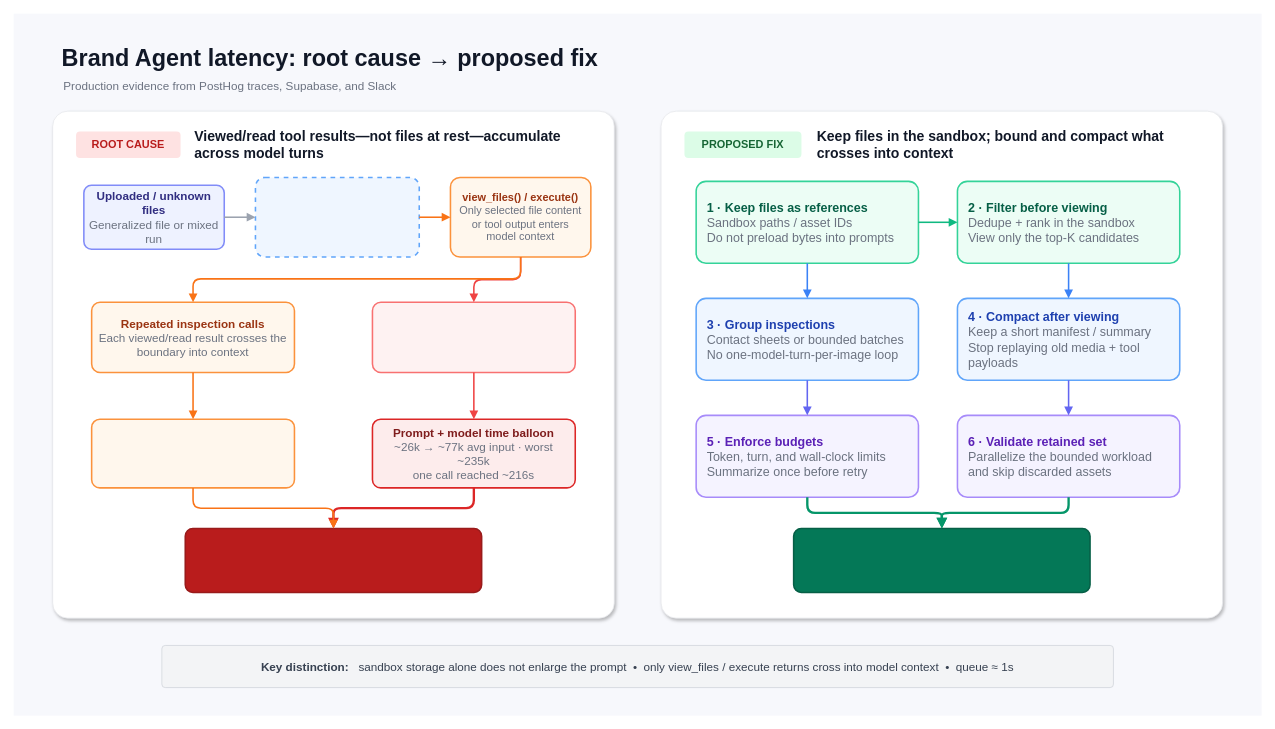
This 1275x729 diagram has some shape labels left out. The centre of each missing label's shape, as x and y in pixels:
"End-to-end latency rises Website + file: ~128s → ~242s" belongs at pixel 333 560.
"Lower, predictable latency Without sacrificing the highest-value source evidence" belongs at pixel 941 560.
"Sandbox filesystem inputs/ · read-only Available ≠ in model context" belongs at pixel 337 216.
"Tool results remain in history Re-sent across 10–14 sequential Gemini turns" belongs at pixel 473 337.
"Tool-result history grows 16.2 MB accumulated in one sampled 23-step run" belongs at pixel 192 453.
